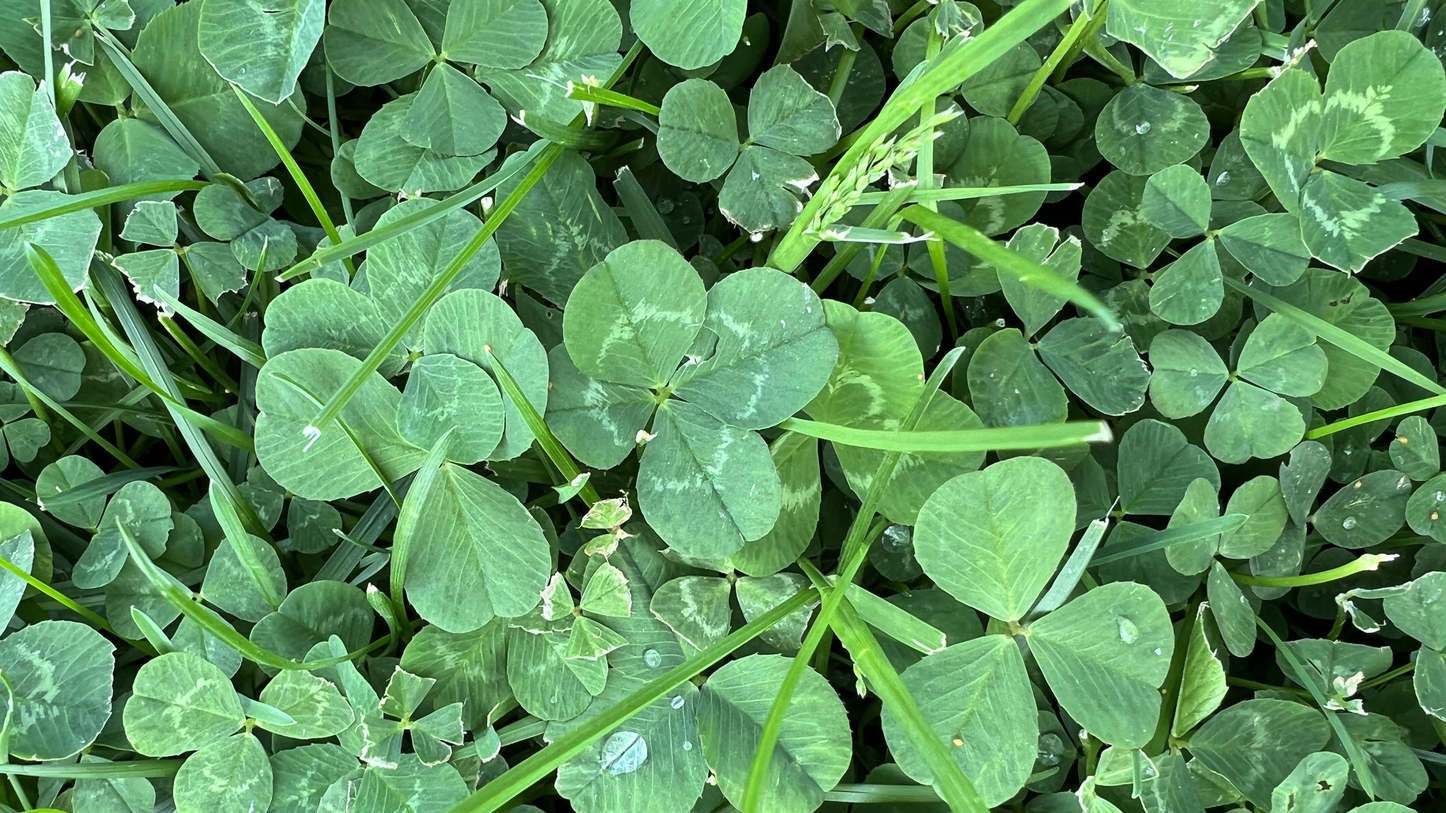4-Leaf-Clovers: (438, 341, 973, 510)
